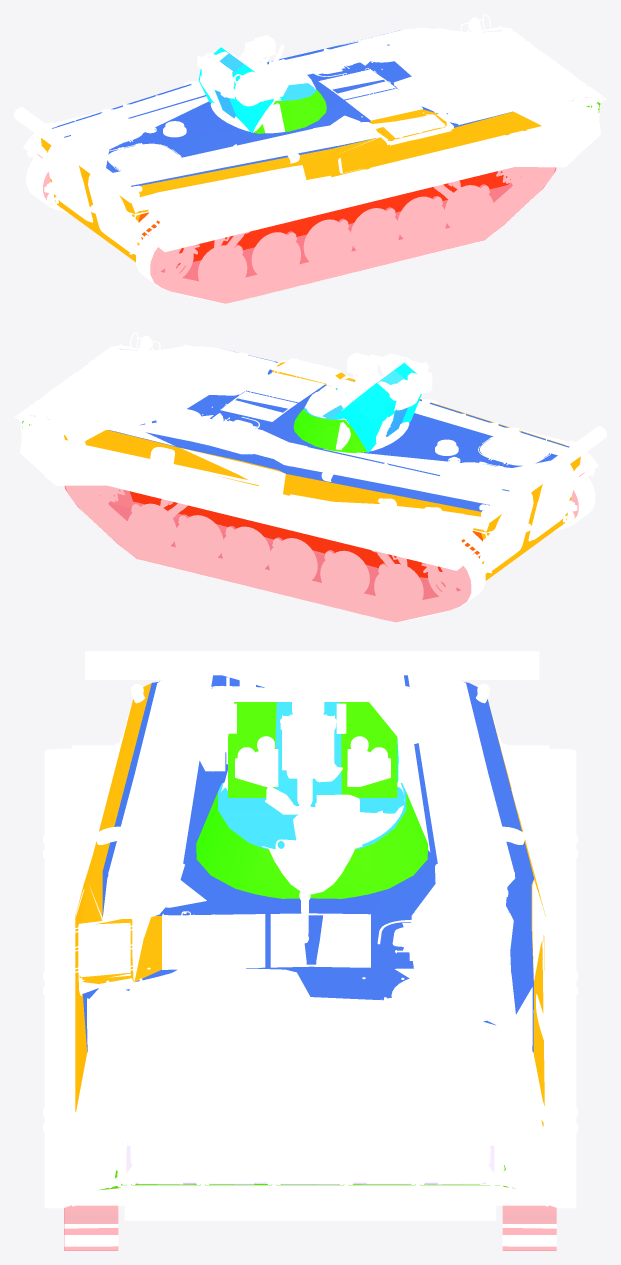
The model's file is BMP1AM.gltf.
3 views of the same model, one above another, from view 1: azimuth 30°, elevation 25°; view 2: azimuth 150°, elevation 25°; view 3: azimuth 270°, elevation 25° (orthographic). The views are drawn at different scales.
Parts seen in each view (by area): view 1: BMP1AM_3, bmp1_track_col_Right2_129, BMP1AM_2, bmp1_hull_col001_3, bmp1_hull_col001, BMP1AM_6, bmp1_hull_col001_5, BMP1AM_4, BMP1AM_5, BMP1AM, 30mm_col002, 30mm_col002_2 (+3 smaller); view 2: BMP1AM_3, bmp1_track_col_Left2_126, bmp1_hull_col001, BMP1AM_1, bmp1_hull_col001_3, BMP1AM_6, bmp1_hull_col001_5, BMP1AM_4, BMP1AM_5, 30mm_col002_2, BMP1AM, 30mm_col002 (+3 smaller); view 3: BMP1AM_3, bmp1_hull_col001, 30mm_col002, BMP1AM_5, BMP1AM, BMP1AM_4, BMP1AM_6, bmp1_hull_col001_3, 30mm_col002_1, BMP1AM_1, BMP1AM_2, bmp1_track_col_Right2_129 (+2 smaller).
Boxes of the visible parts, left/top/right/bottom form: BMP1AM_3: left=23, top=14, right=606, bottom=291; bmp1_track_col_Right2_129: left=147, top=167, right=556, bottom=303; BMP1AM_2: left=136, top=130, right=555, bottom=303; bmp1_hull_col001_3: left=131, top=109, right=541, bottom=213; bmp1_hull_col001: left=52, top=30, right=512, bottom=186; BMP1AM_6: left=197, top=28, right=440, bottom=104; bmp1_hull_col001_5: left=138, top=171, right=510, bottom=264; BMP1AM_4: left=321, top=70, right=443, bottom=135; BMP1AM_5: left=199, top=50, right=315, bottom=133; BMP1AM: left=14, top=107, right=139, bottom=203; 30mm_col002: left=254, top=89, right=326, bottom=133; 30mm_col002_2: left=198, top=47, right=286, bottom=132; BMP1AM_3: left=14, top=332, right=598, bottom=609; bmp1_track_col_Left2_126: left=64, top=486, right=474, bottom=621; bmp1_hull_col001: left=108, top=351, right=569, bottom=511; BMP1AM_1: left=65, top=449, right=485, bottom=622; bmp1_hull_col001_3: left=64, top=362, right=569, bottom=532; BMP1AM_6: left=183, top=344, right=427, bottom=410; bmp1_hull_col001_5: left=130, top=491, right=482, bottom=577; BMP1AM_4: left=222, top=359, right=338, bottom=420; BMP1AM_5: left=304, top=361, right=432, bottom=452; 30mm_col002_2: left=333, top=362, right=421, bottom=452; BMP1AM: left=481, top=426, right=606, bottom=522; 30mm_col002: left=293, top=408, right=366, bottom=452; BMP1AM_3: left=43, top=668, right=577, bottom=1220; bmp1_hull_col001: left=83, top=675, right=534, bottom=1052; 30mm_col002: left=196, top=702, right=427, bottom=898; BMP1AM_5: left=221, top=677, right=404, bottom=894; BMP1AM: left=85, top=651, right=539, bottom=679; BMP1AM_4: left=80, top=915, right=368, bottom=971; BMP1AM_6: left=187, top=665, right=353, bottom=943; bmp1_hull_col001_3: left=75, top=683, right=545, bottom=1126; 30mm_col002_1: left=218, top=702, right=406, bottom=848; BMP1AM_1: left=502, top=1205, right=556, bottom=1249; BMP1AM_2: left=64, top=1205, right=118, bottom=1249; bmp1_track_col_Right2_129: left=64, top=1205, right=117, bottom=1250.
Size of the model in its own units: 6.88 by 2.64 by 3.27.
